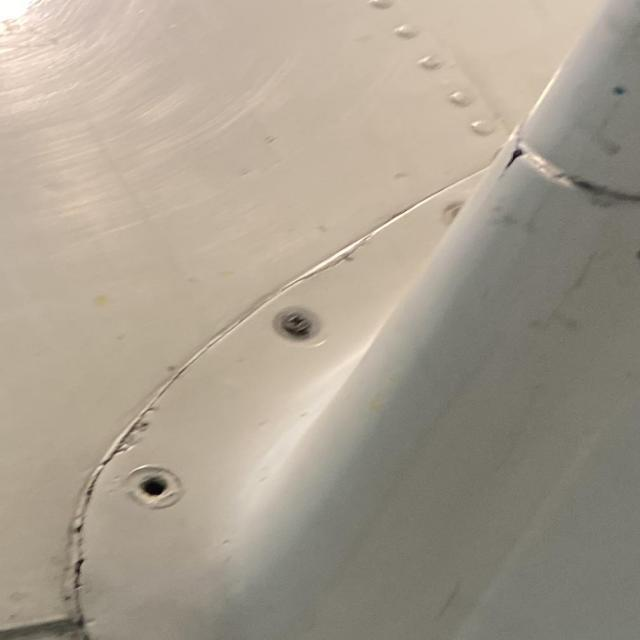Crack: (497, 134, 528, 177)
Missing-head: (124, 464, 181, 506)
